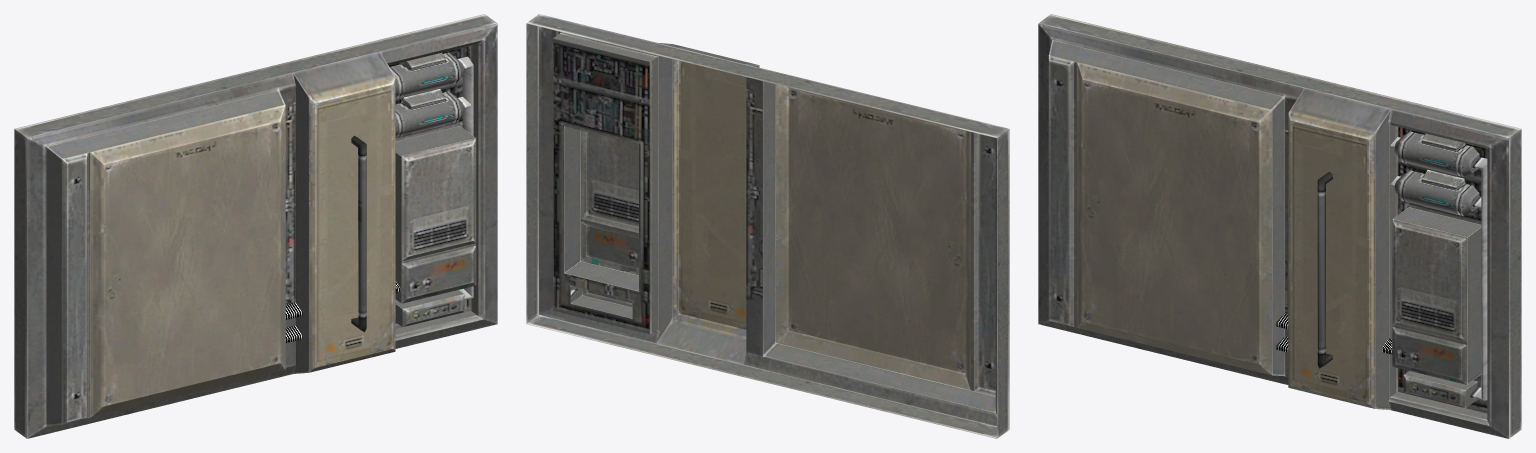
The model's file is pob_station_tech_panel_l0.fbx.
3 renders of one model, left to right at view 1: azimuth 30°, elevation 25°; view 2: azimuth 150°, elevation 25°; view 3: azimuth 330°, elevation 25°, orthographic.
Visible parts, largest first — view 1: mesh_node; view 2: mesh_node; view 3: mesh_node.
Part boxes in pixels (x1=…): mesh_node: x1=14, y1=14, x2=497, y2=438; mesh_node: x1=526, y1=14, x2=1009, y2=438; mesh_node: x1=1038, y1=14, x2=1521, y2=438.
Bounding box in the file's own units: 1.28 × 0.7794 × 0.1937.
1 material, 1 textured.
